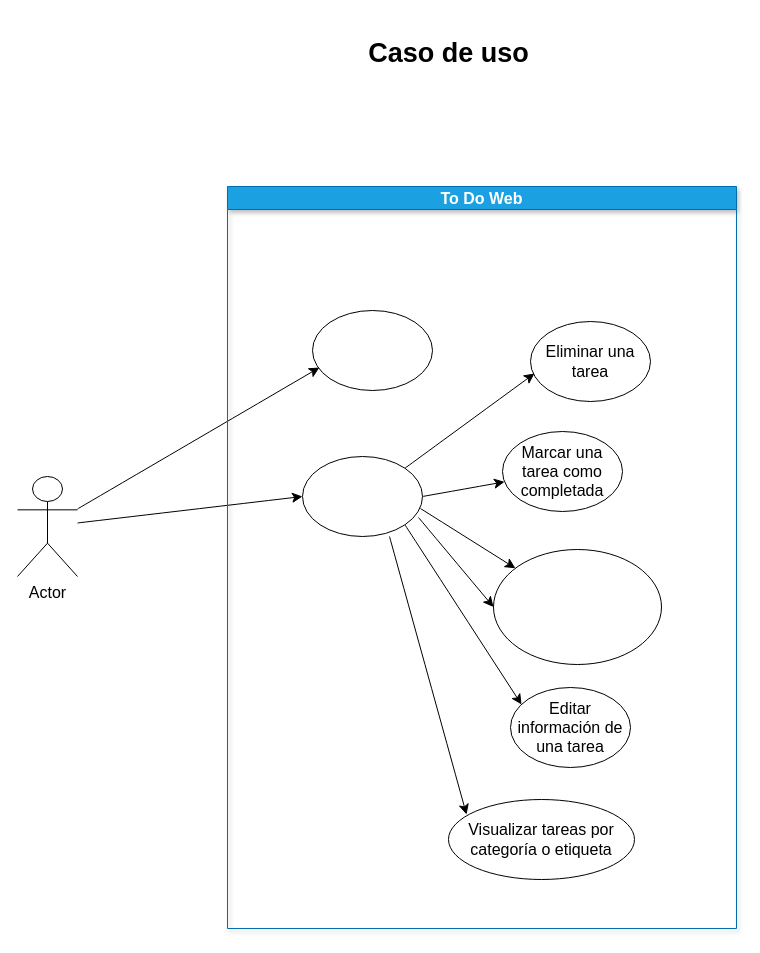
This 760x953 diagram has some shape labels left out. The shapes that lost their labels are listed below. From the top down, each one's centre as x and y in pixels, then its label:
At (372,350): "Agregar una nueva tarea".
At (362,496): "Visualizar todas las tareas".
At (577,606): "Clasificar tareas por diferentes criterios".
